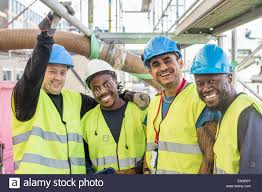helmet: (191, 45, 234, 76), (142, 35, 184, 61), (83, 57, 120, 80), (52, 44, 75, 66)
vest: (12, 90, 82, 181), (149, 93, 199, 173), (85, 103, 142, 172), (217, 105, 262, 177)
